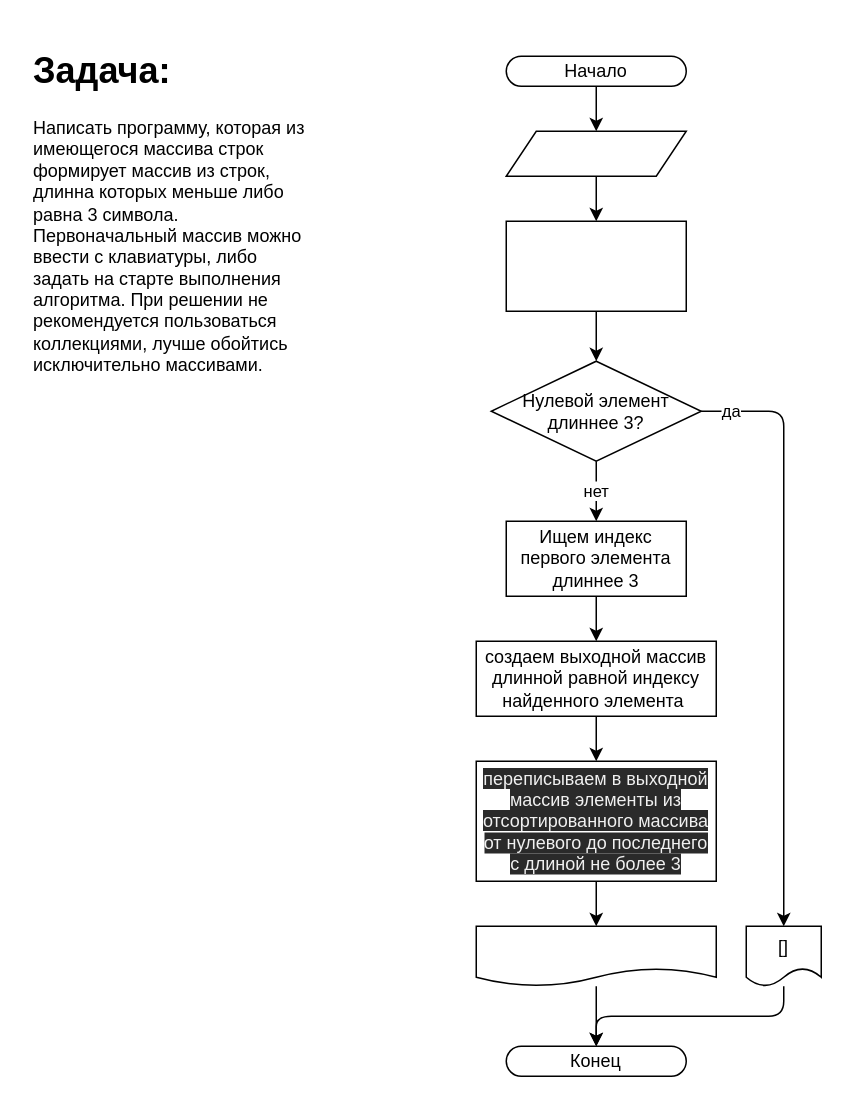
The diagram is 848 pixels wide and 1103 high, and some of its shapes have lost their labels. Here are the shapes that lost their labels. From the top down, the centre of each, then its label:
At (x=595, y=153): "массив строк".
At (x=595, y=265): "сортируем массив строк по возростанию длинны строки".
At (x=595, y=955): "[выходной массив строк]".
